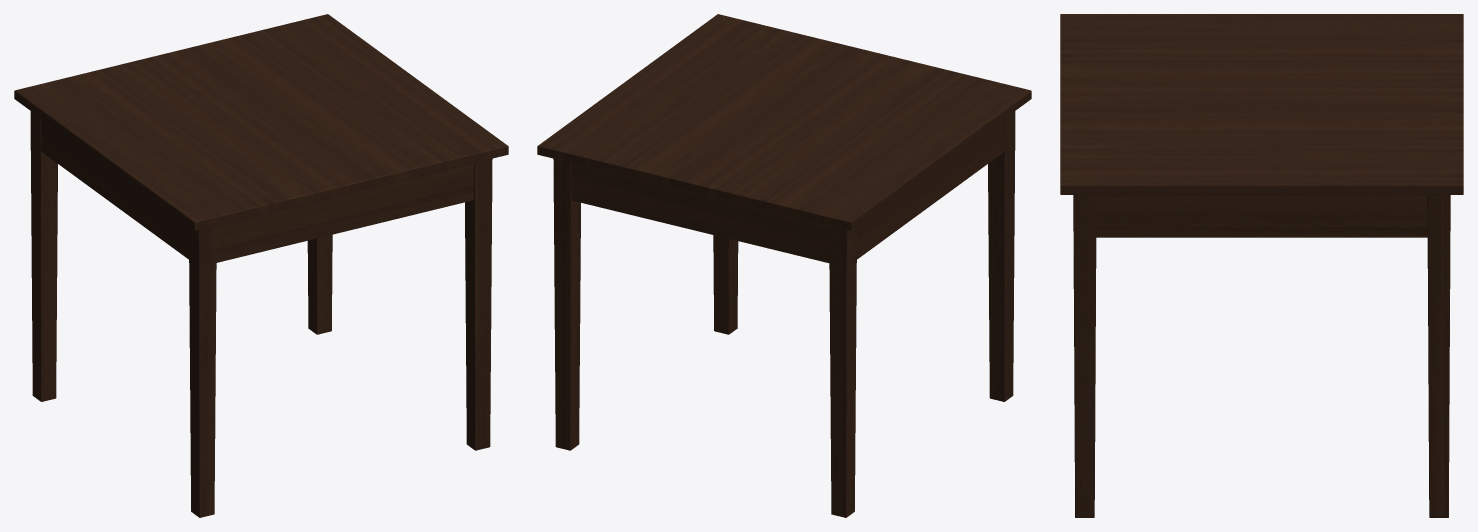
Rendered from Table.FBX.
3 renders of one model, left to right at view 1: azimuth 30°, elevation 25°; view 2: azimuth 150°, elevation 25°; view 3: azimuth 270°, elevation 25°, orthographic. The views are drawn at different scales.
Visible parts, largest first — view 1: Table; view 2: Table; view 3: Table.
Part boxes in pixels (x1,y1,x2,y2): Table: [14, 14, 508, 517]; Table: [537, 14, 1031, 517]; Table: [1060, 14, 1463, 517].
Size of the model in its own units: 85.35 by 78.89 by 84.98.
1 material, 1 textured.
